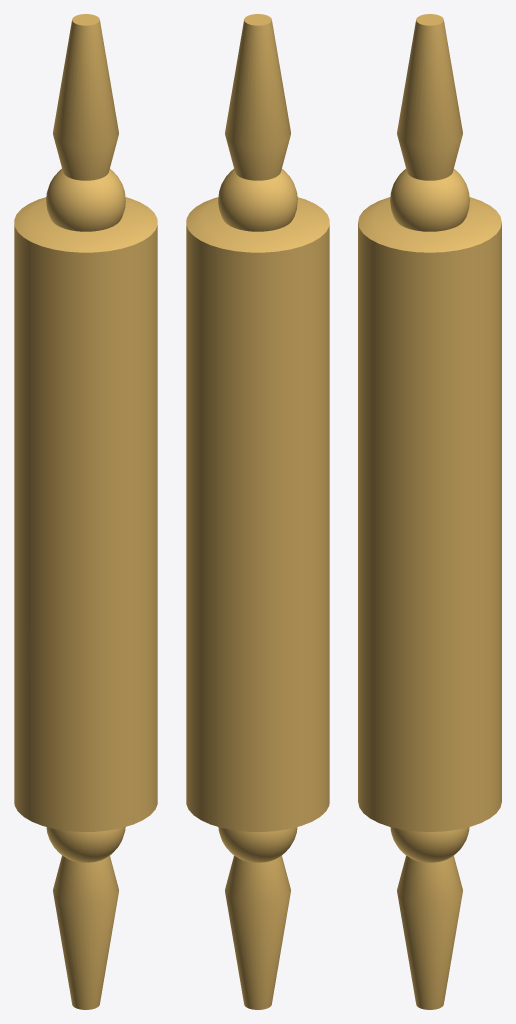
The model's file is mildea.fbx.
3 renders of one model, left to right at view 1: azimuth 30°, elevation 25°; view 2: azimuth 150°, elevation 25°; view 3: azimuth 270°, elevation 25°, orthographic.
Visible parts, largest first — view 1: Cylinder, Cylinder.001, Sphere; view 2: Cylinder, Cylinder.001, Sphere; view 3: Cylinder, Cylinder.001, Sphere.
Part boxes in pixels (left/top/right/bottom): Cylinder: left=14, top=197, right=157, bottom=831; Cylinder.001: left=53, top=14, right=118, bottom=1009; Sphere: left=46, top=169, right=125, bottom=862; Cylinder: left=186, top=197, right=329, bottom=831; Cylinder.001: left=225, top=14, right=290, bottom=1009; Sphere: left=218, top=169, right=297, bottom=862; Cylinder: left=358, top=197, right=501, bottom=831; Cylinder.001: left=397, top=14, right=462, bottom=1009; Sphere: left=390, top=169, right=469, bottom=862.
Size of the model in its own units: 50.04 by 378 by 50.04.
